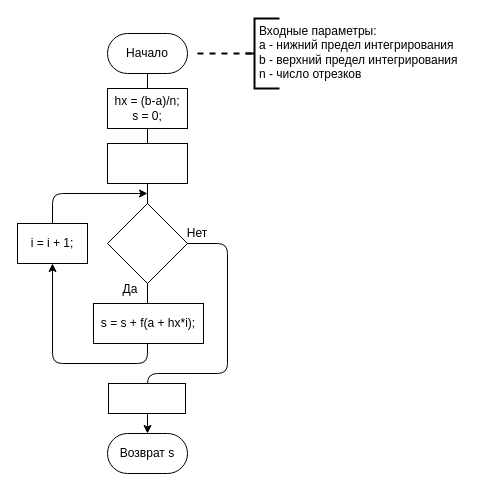
Image size: 485x491. Some labels were removed from this diagram. The shapes that lost their labels are listed below. From the top down, each one's box as (x1, y1, x2, y2) in pixels, then its label:
(106, 142, 188, 184): i = 1;
(106, 202, 188, 284): i <= n
(108, 382, 186, 414): s = s * hx;
